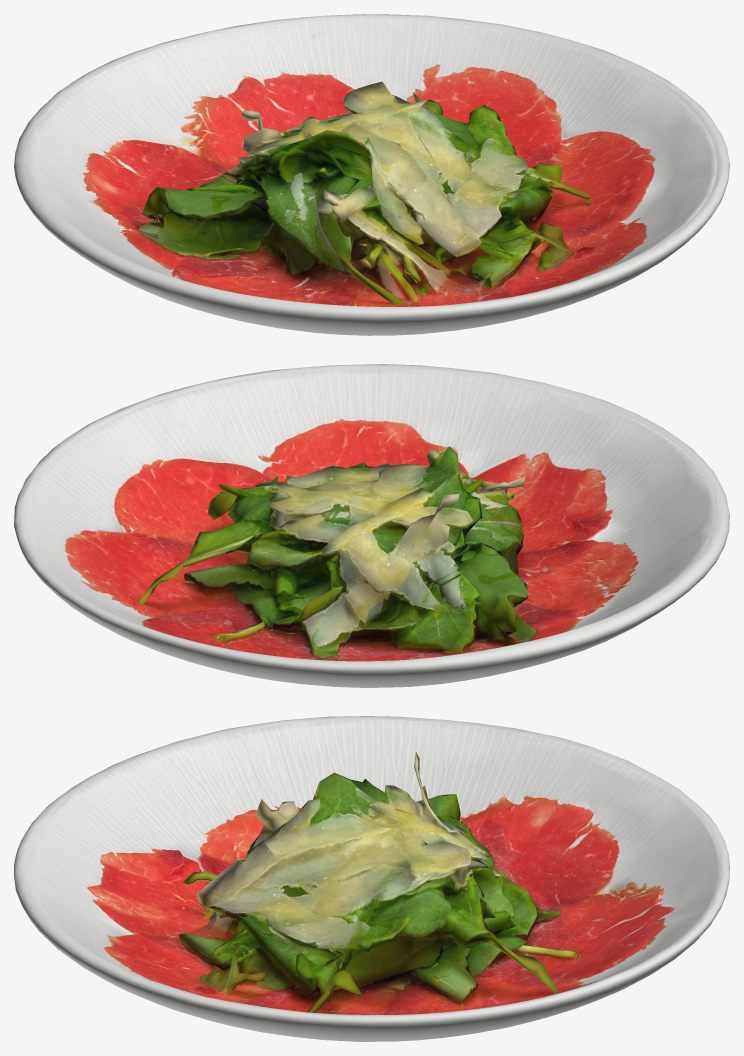
3 renders of one model, top to bottom at view 1: azimuth 30°, elevation 25°; view 2: azimuth 150°, elevation 25°; view 3: azimuth 270°, elevation 25°, orthographic.
Visible parts, largest first — view 1: object.006; view 2: object.006; view 3: object.006.
Part boxes in pixels (x1,y1,x2,y2): object.006: (14,14,729,335); object.006: (14,364,729,687); object.006: (14,716,729,1041).
Size of the model in its own units: 0.28 by 0.07 by 0.28.
1 material, 1 textured.
